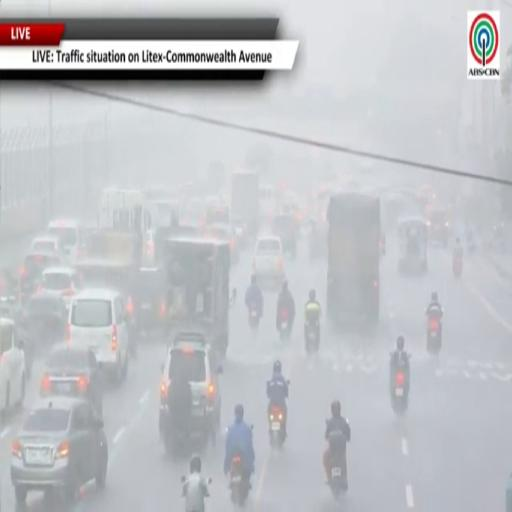car: (11, 396, 108, 506), (159, 332, 222, 453), (67, 288, 129, 381), (40, 344, 103, 417), (126, 267, 167, 334), (20, 292, 67, 346), (0, 318, 26, 412), (20, 250, 62, 301), (39, 267, 80, 308), (48, 219, 84, 263), (253, 235, 284, 285), (203, 223, 239, 264), (273, 214, 298, 258), (427, 208, 451, 247), (30, 234, 64, 259), (0, 268, 19, 298)
motorcycle: (329, 431, 347, 499), (230, 455, 250, 506), (391, 368, 408, 413), (268, 405, 285, 449), (426, 315, 442, 355), (305, 320, 319, 355), (279, 308, 290, 341), (249, 304, 260, 331), (453, 255, 462, 278), (181, 476, 188, 498)
truck: (161, 234, 230, 359), (327, 192, 380, 328), (231, 170, 259, 236)
